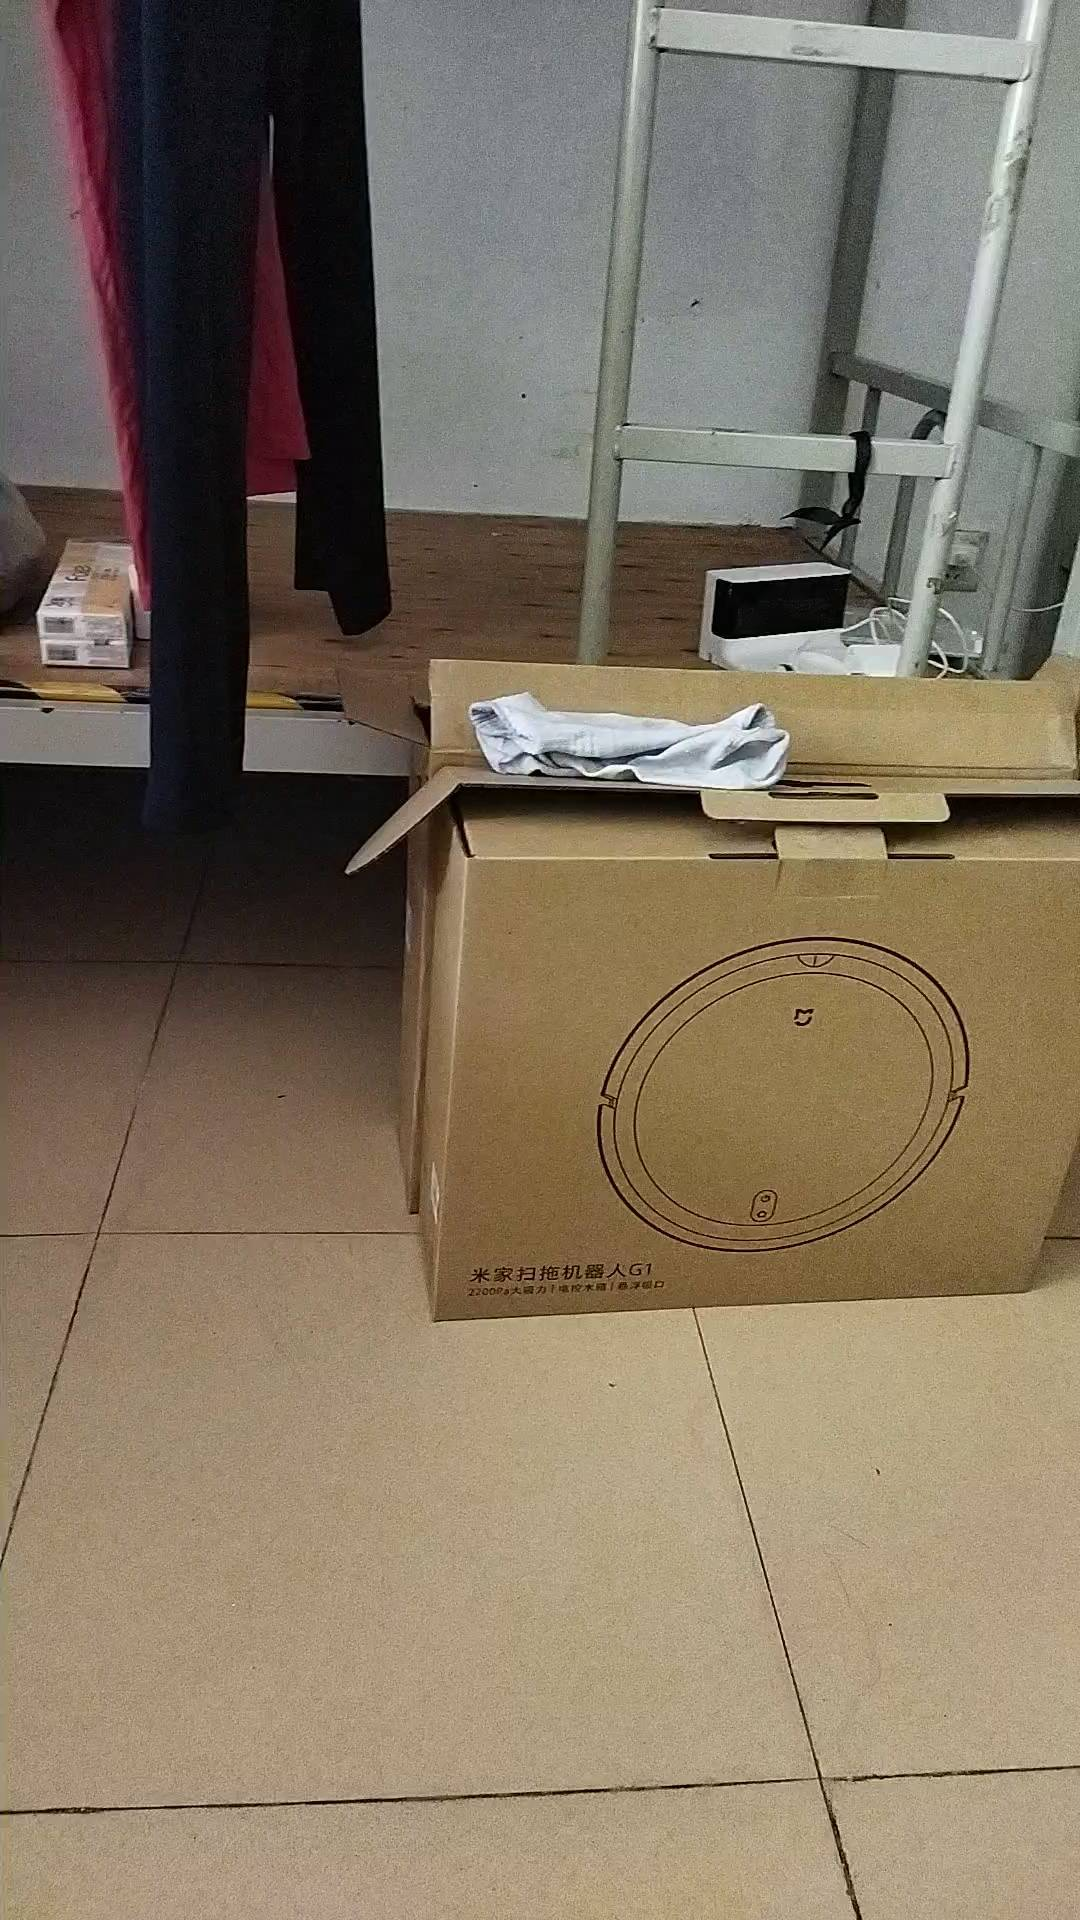recharge seat: (700, 563, 866, 673)
